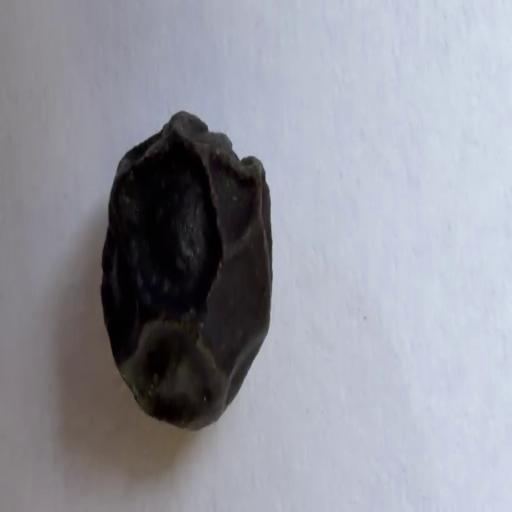Black_pepper: (100, 79, 282, 446)
